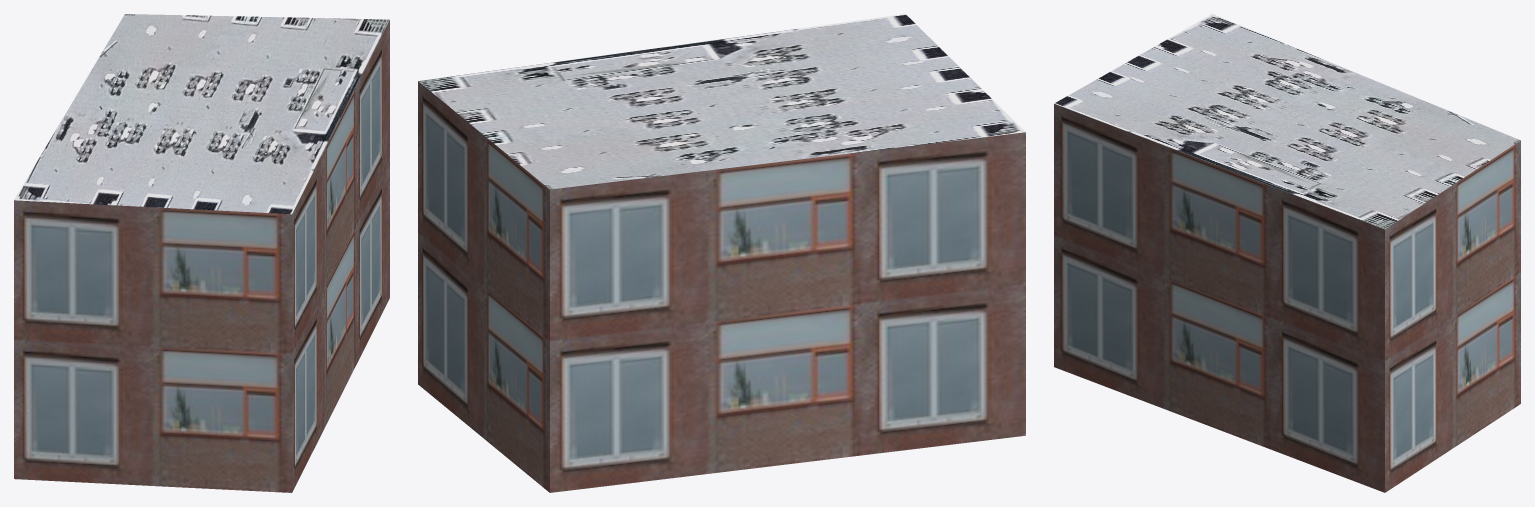
Rendered from ResTex__257.fbx.
3 views of the same model, side by side, from view 1: azimuth 30°, elevation 25°; view 2: azimuth 150°, elevation 25°; view 3: azimuth 270°, elevation 25° (orthographic). The views are drawn at different scales.
Visible parts, largest first — view 1: CityEngineMaterial_19_m, CityEngineMaterial_15_m; view 2: CityEngineMaterial_19_m, CityEngineMaterial_15_m; view 3: CityEngineMaterial_19_m, CityEngineMaterial_15_m.
Part boxes in pixels (box(x1,y1,x2,y2)): CityEngineMaterial_19_m: box(14, 20, 389, 492); CityEngineMaterial_15_m: box(14, 14, 389, 214); CityEngineMaterial_19_m: box(418, 81, 1025, 492); CityEngineMaterial_15_m: box(418, 14, 1025, 189); CityEngineMaterial_19_m: box(1054, 104, 1520, 492); CityEngineMaterial_15_m: box(1054, 14, 1520, 229).
Size of the model in its own units: 10.52 by 6 by 9.64.
2 materials, 2 textured.
